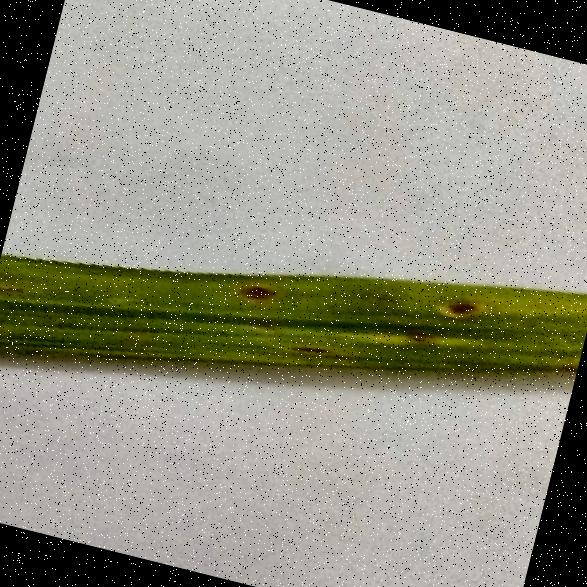Leaf_smut: (212, 224, 500, 410)
